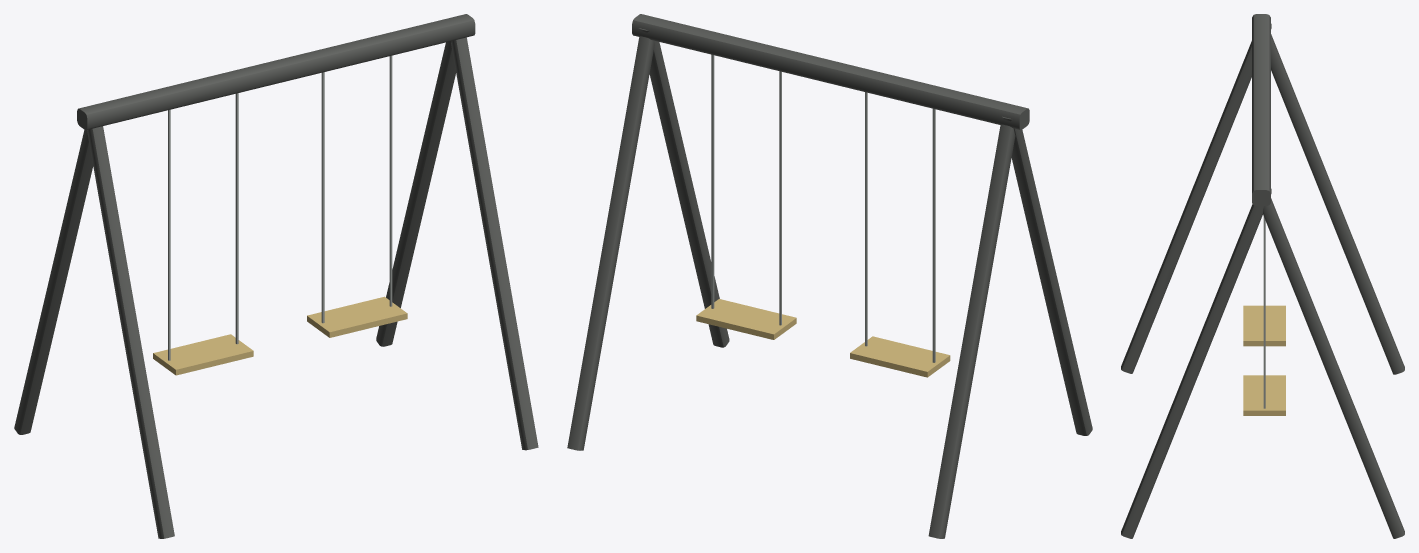
File: swings001.fbx
The picture shows the model from 3 angles, left to right: view 1: azimuth 30°, elevation 25°; view 2: azimuth 150°, elevation 25°; view 3: azimuth 270°, elevation 25°; orthographic projection. The views are drawn at different scales.
Visible parts, largest first — view 1: swings; view 2: swings; view 3: swings.
Part boxes in pixels (x1,y1,x2,y2): swings: [14, 14, 538, 538]; swings: [567, 14, 1092, 538]; swings: [1121, 14, 1404, 538].
Size of the model in its own units: 20.59 by 19.21 by 14.03.
1 material, 1 textured.
